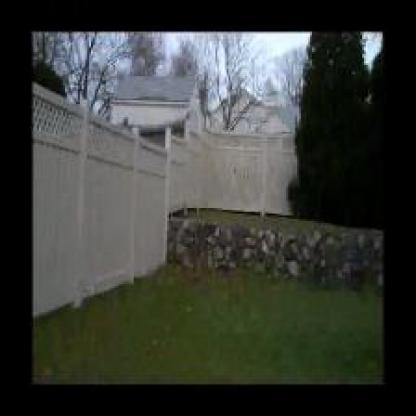other: (254, 42, 302, 104)
